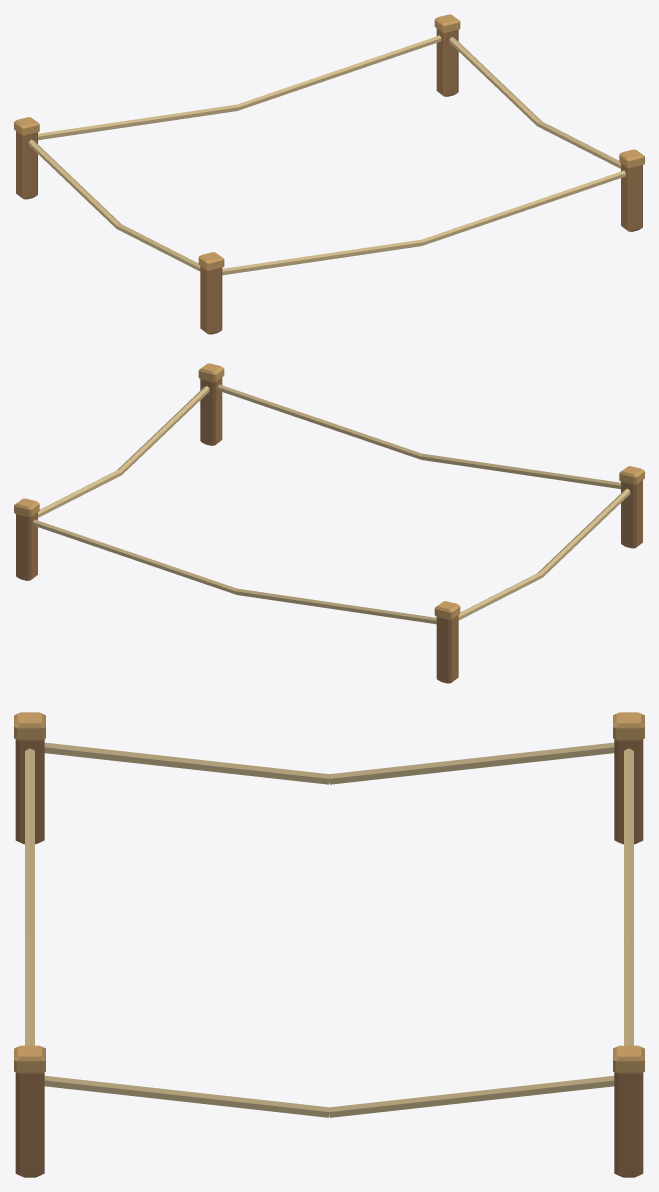
The model's file is building_plot.glb.
3 views of the same model, one above another, from view 1: azimuth 30°, elevation 25°; view 2: azimuth 150°, elevation 25°; view 3: azimuth 270°, elevation 25° (orthographic). The views are drawn at different scales.
Parts seen in each view (by area): view 1: Bauplatz · Pflöcke und Schnur; view 2: Bauplatz · Pflöcke und Schnur; view 3: Bauplatz · Pflöcke und Schnur.
Boxes of the visible parts, box(x1,y1,x2,y2) form: Bauplatz · Pflöcke und Schnur: box(14, 14, 644, 334); Bauplatz · Pflöcke und Schnur: box(14, 363, 644, 683); Bauplatz · Pflöcke und Schnur: box(14, 712, 644, 1177).
Bounding box in the file's own units: 2.69 × 0.4425 × 2.07.
